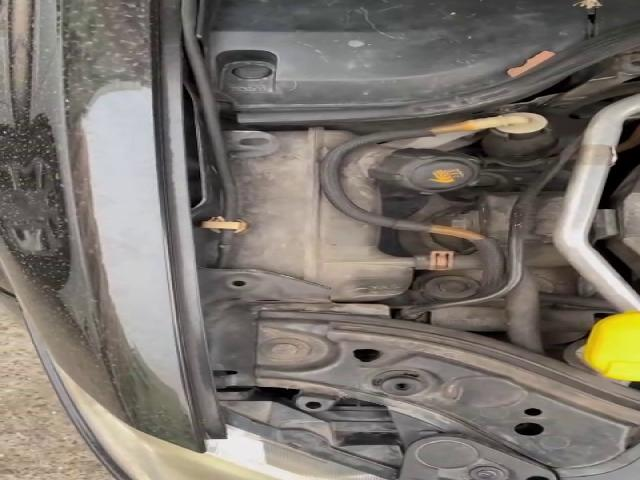antifreeze_tank: (227, 128, 413, 301), (340, 144, 479, 212)
